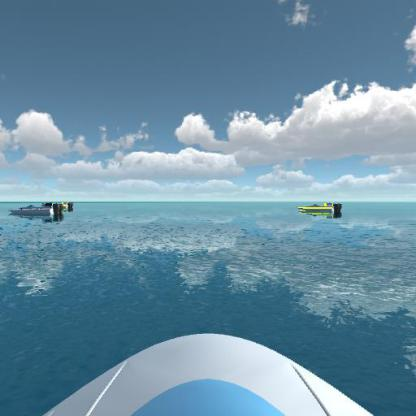usv1: (8, 200, 66, 225)
usv2: (296, 197, 345, 223), (48, 198, 74, 212)
